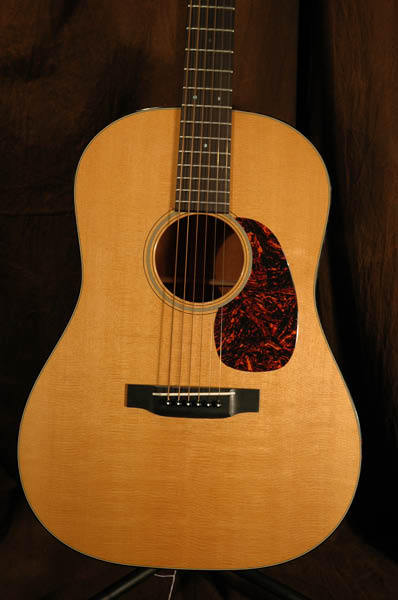guitar: (16, 4, 368, 573)
